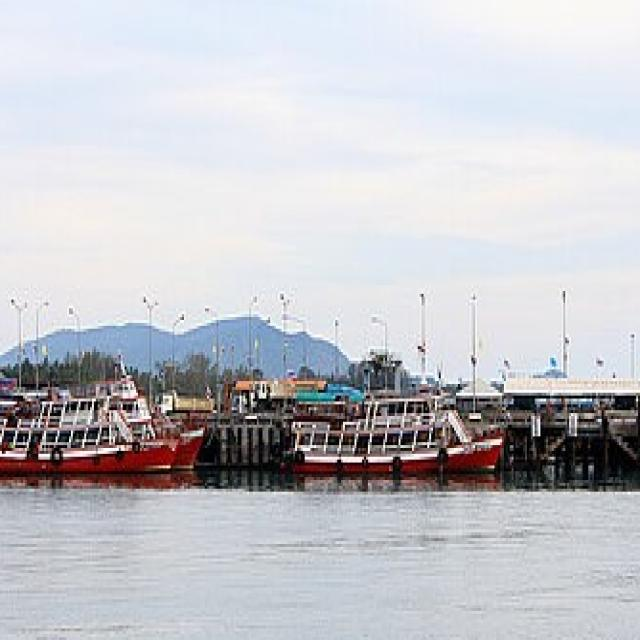passenger ship: (274, 344, 502, 491), (0, 340, 174, 491)
